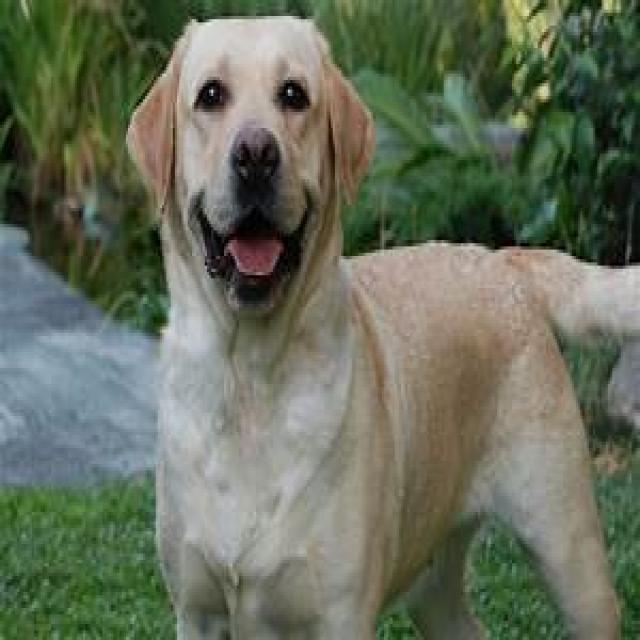KOPEK: (123, 14, 640, 640)
